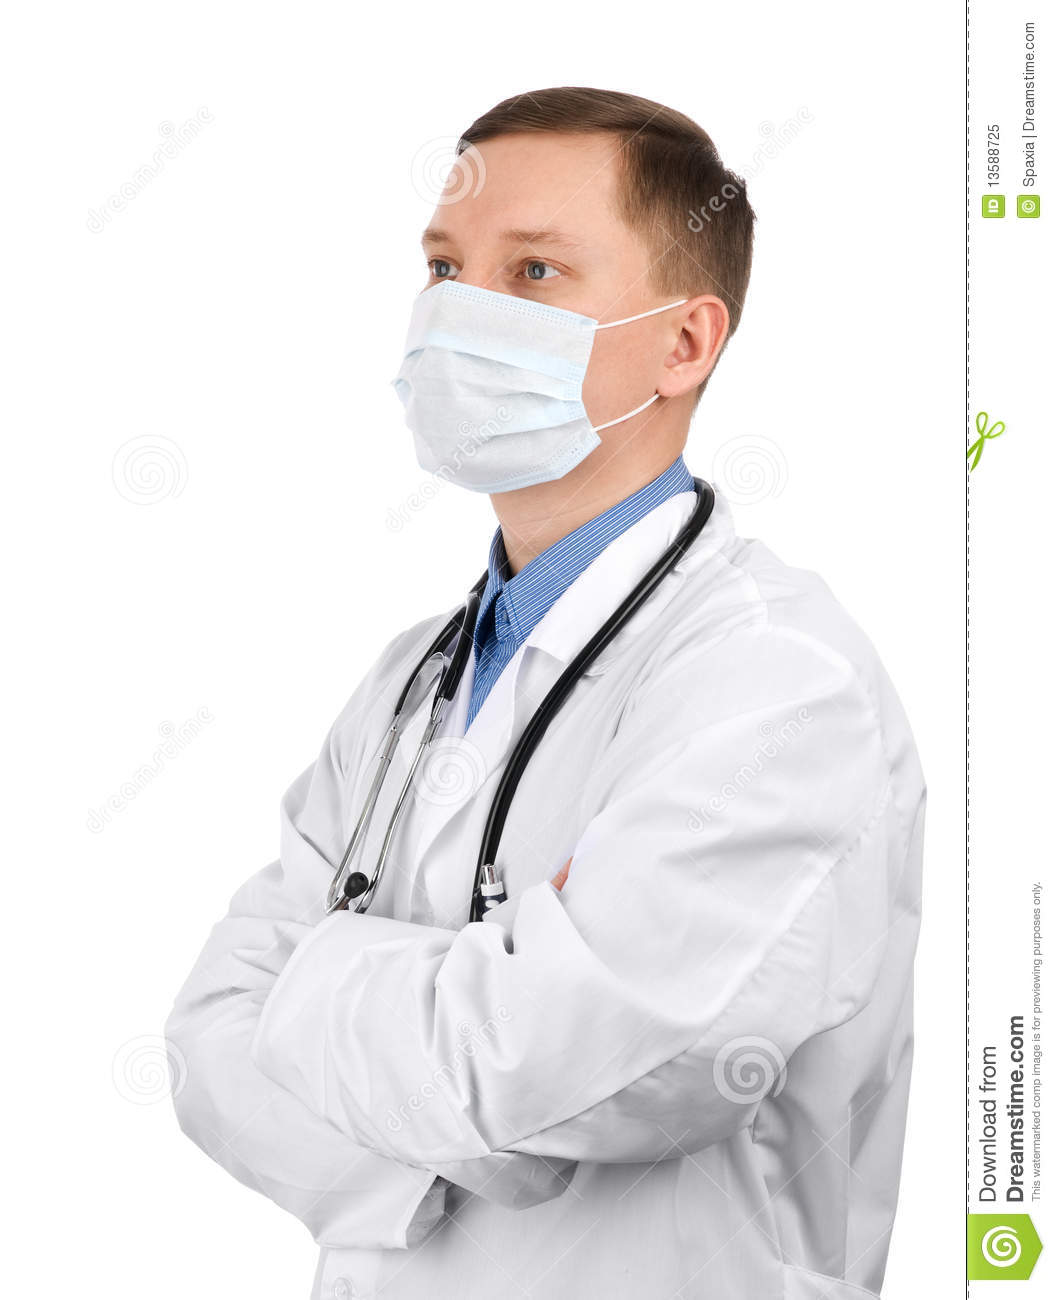mask: (386, 295, 619, 489)
